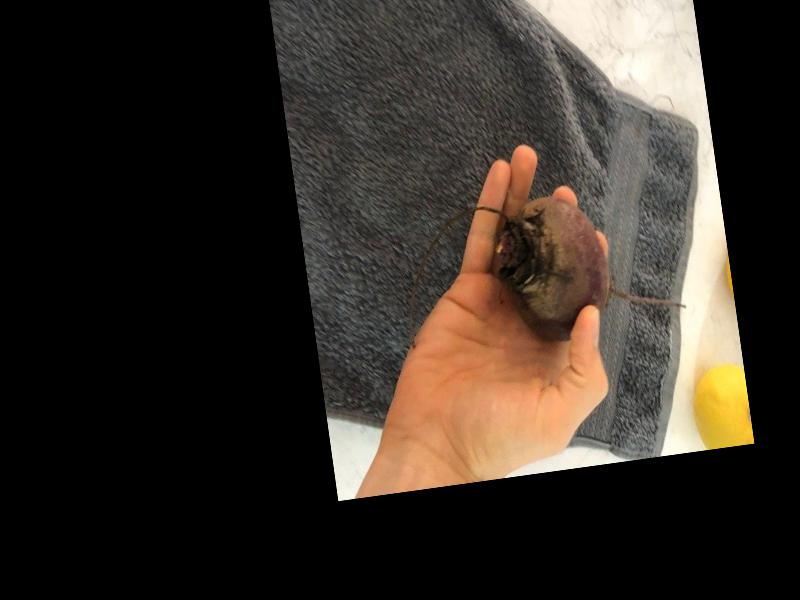Beet: (484, 182, 687, 349)
